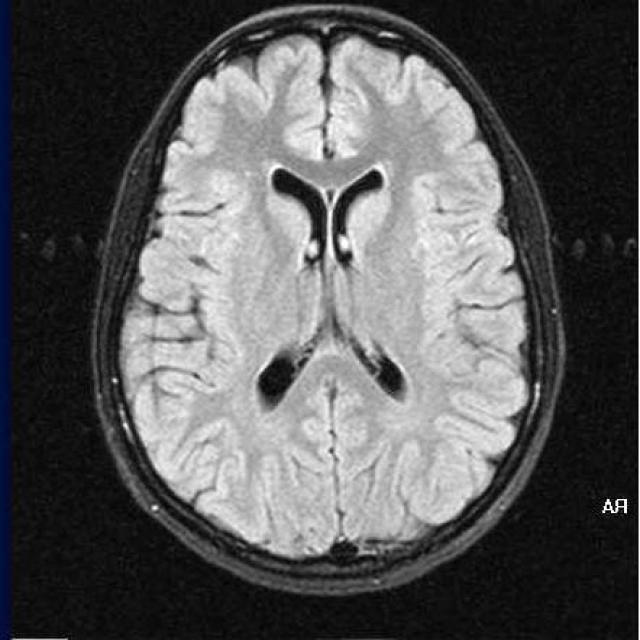No_Tumor: (92, 6, 564, 594)
